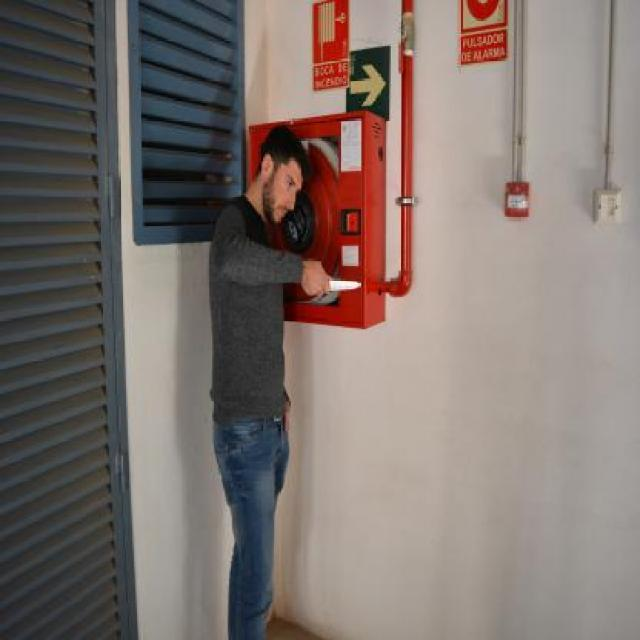-: (320, 273, 363, 296)
